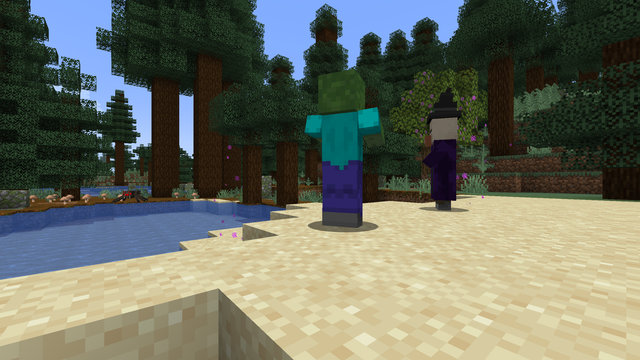araignees: (118, 189, 143, 202)
sorcieres: (422, 111, 463, 210)
zombies: (311, 69, 373, 230)
